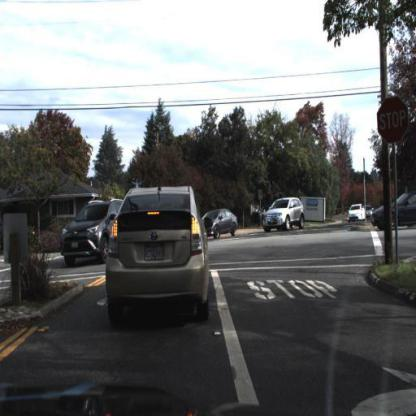car: (105, 182, 210, 328), (60, 201, 113, 266), (373, 191, 416, 229), (263, 196, 307, 231), (202, 208, 241, 240), (346, 203, 366, 226)
